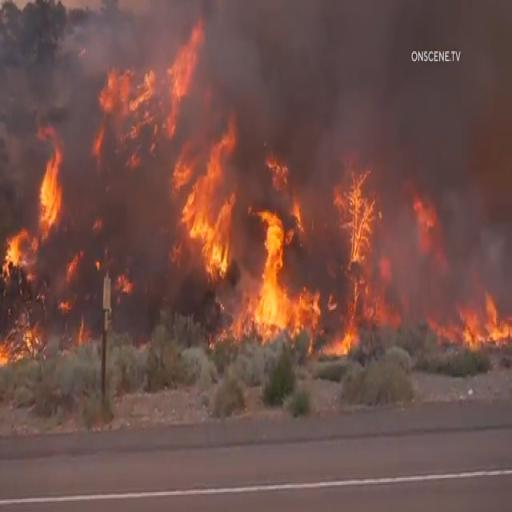fire: (74, 23, 202, 202), (154, 102, 238, 329), (238, 152, 313, 355), (312, 186, 374, 369), (443, 280, 512, 364), (0, 228, 31, 297)
smoke: (246, 8, 392, 119), (382, 78, 508, 200), (0, 35, 54, 169)
